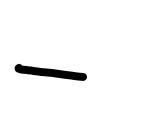minus: (11, 61, 86, 85)
